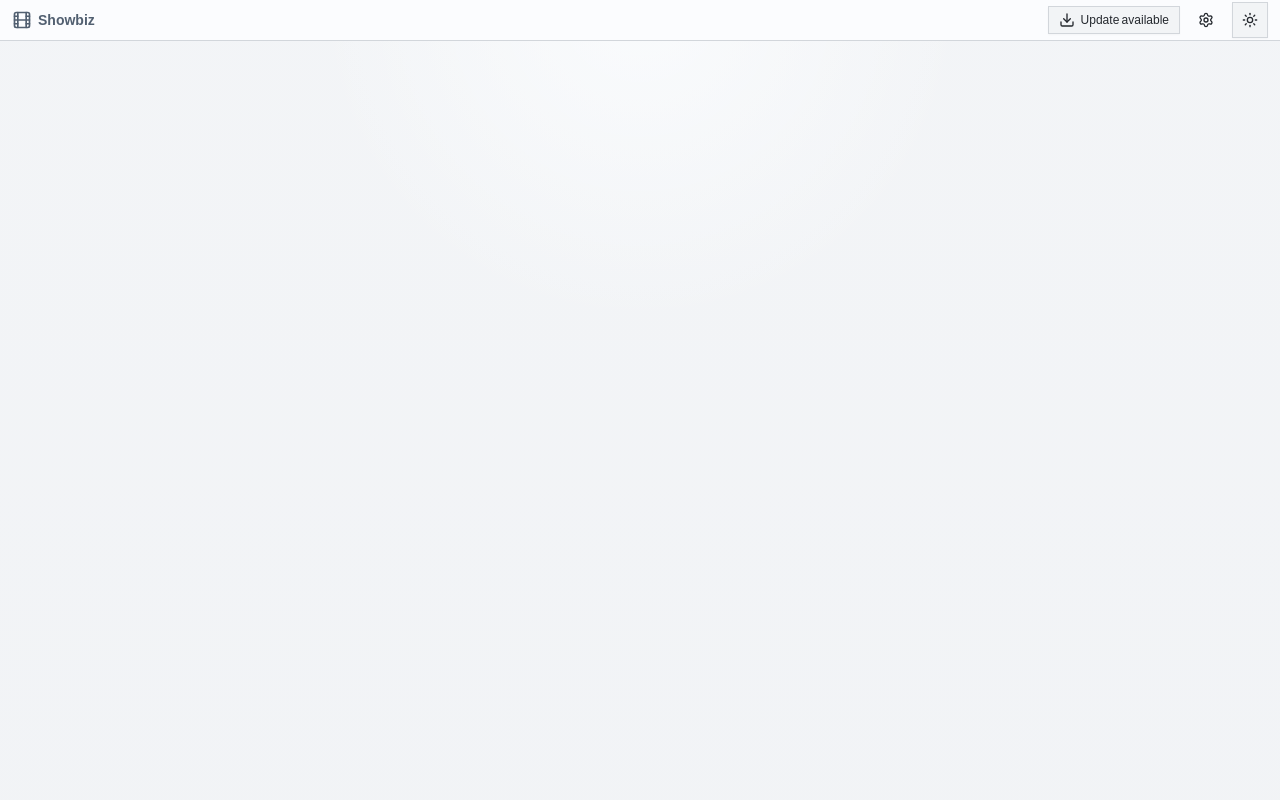
Test case: opens Updates in the first dialog commit without painting Providers first
Click the button "Update available" at (1114,20), box [1048,6,1180,34]
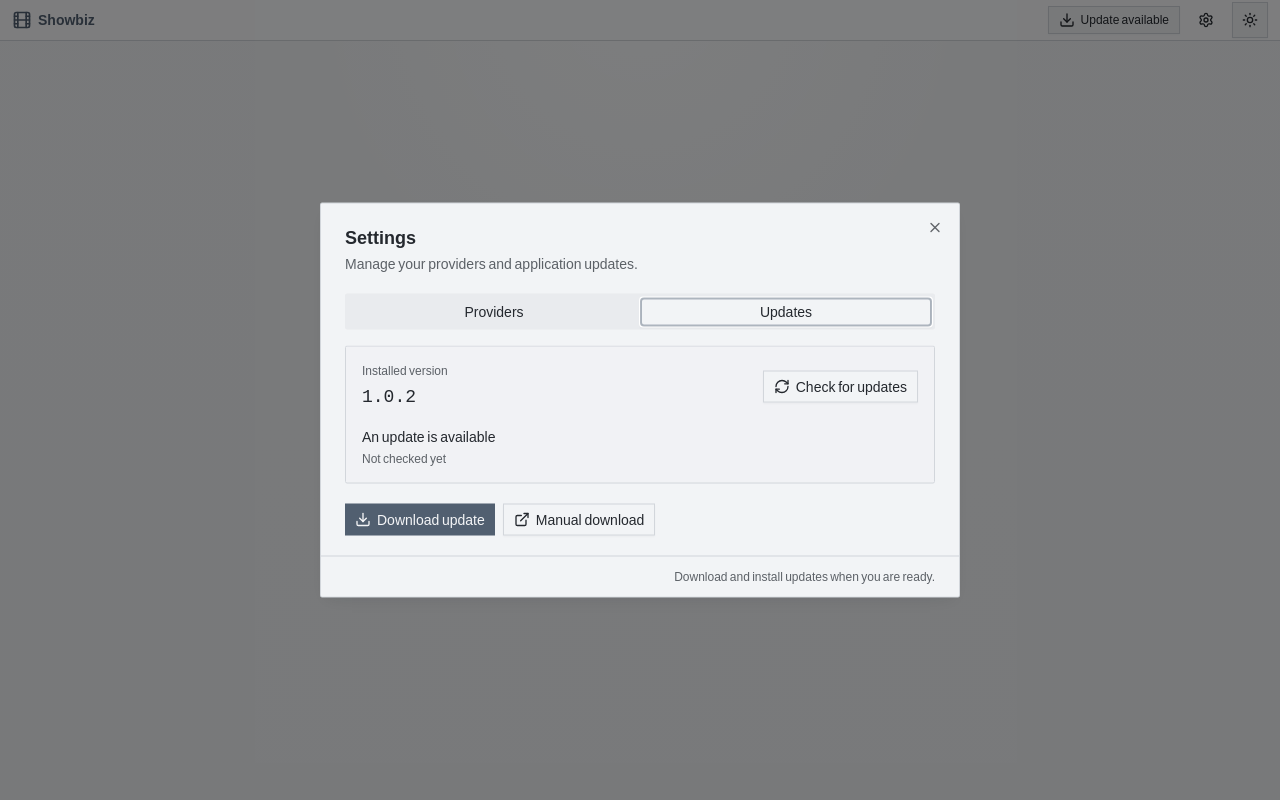
Now the tab "Updates" is shown, box [640,297,932,326]
